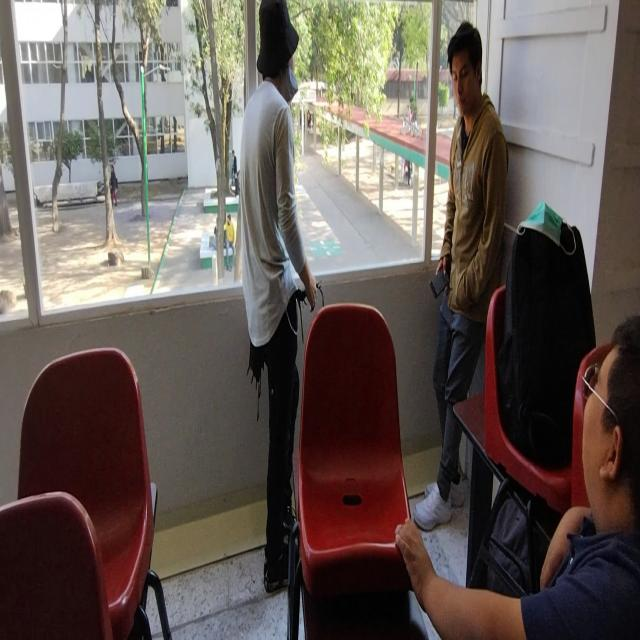adult: (395, 317, 640, 640), (411, 21, 508, 519), (242, 0, 316, 581)
